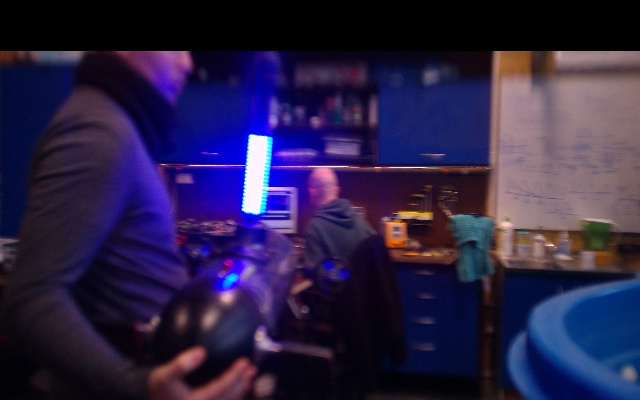blue: (240, 134, 274, 216)
